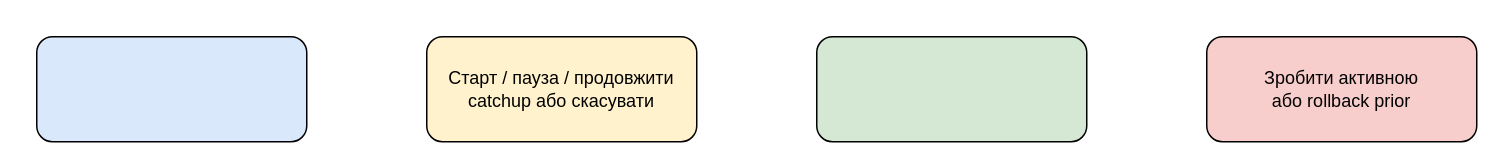
The diagram is 1503 pixels wide and 168 high, and some of its shapes have lost their labels. Each missing label, with the box of its shape:
Перевірити gates усі доставки термінальні: (815, 35, 1087, 142)
Створити scope replay ізольована generation: (35, 35, 307, 142)
